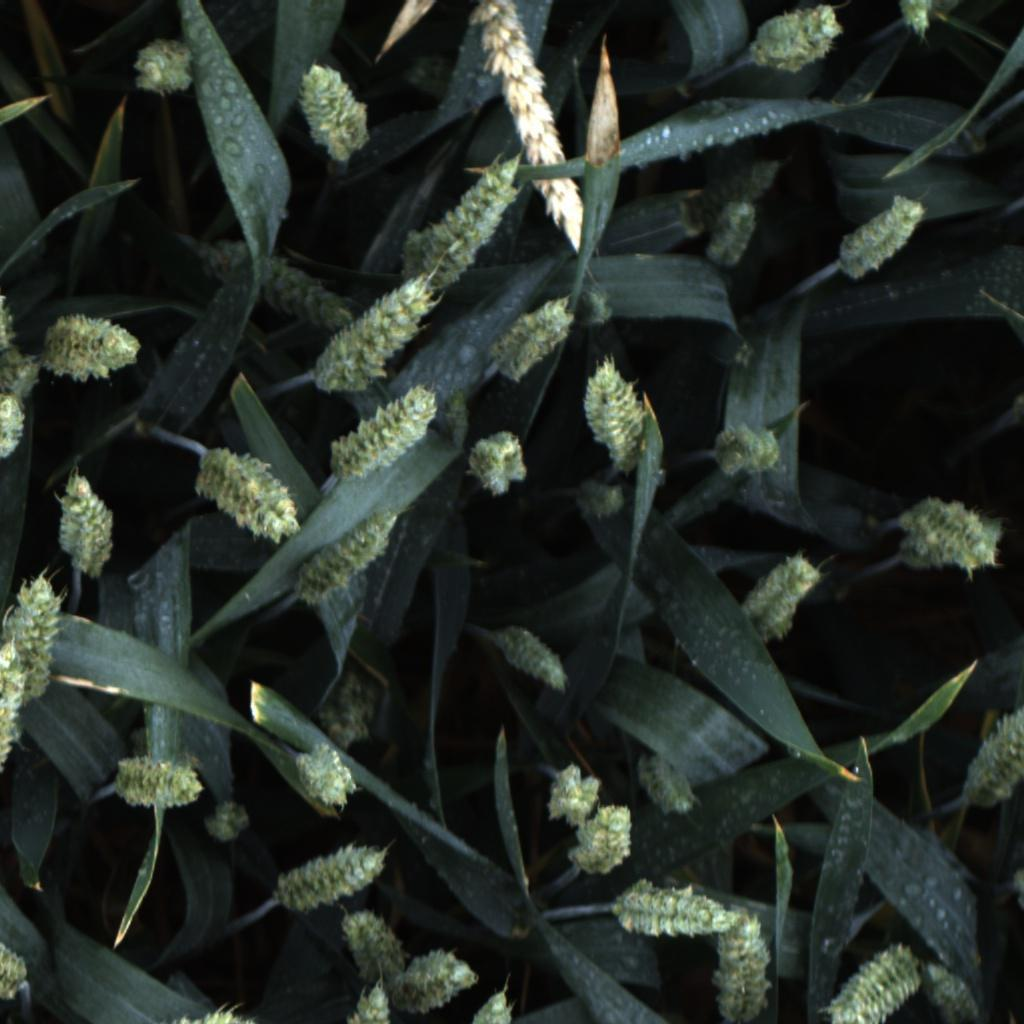0-0: (449, 0, 602, 263), (382, 154, 526, 301), (190, 234, 359, 345), (303, 268, 444, 394), (324, 386, 444, 492), (192, 439, 302, 543), (294, 508, 403, 606), (892, 488, 1001, 582), (481, 289, 575, 394), (823, 933, 926, 1024), (576, 352, 654, 468), (613, 872, 740, 941), (958, 679, 1024, 810), (833, 190, 929, 280), (277, 843, 395, 916), (294, 58, 374, 162), (8, 572, 72, 699), (740, 547, 828, 638), (743, 7, 852, 79), (51, 472, 122, 581), (711, 907, 776, 1022), (41, 313, 147, 383), (384, 946, 483, 1017), (490, 619, 578, 694), (682, 150, 791, 209), (108, 751, 206, 816), (567, 800, 643, 874), (291, 737, 362, 816), (337, 905, 410, 981), (312, 677, 388, 749), (465, 425, 533, 501), (712, 418, 791, 482), (640, 748, 702, 824), (543, 756, 604, 831), (704, 199, 765, 266), (0, 642, 28, 786), (127, 40, 191, 101), (920, 961, 981, 1024), (0, 921, 41, 1006), (572, 467, 630, 524), (148, 999, 272, 1024), (198, 794, 256, 847), (434, 381, 473, 459), (340, 977, 402, 1024), (0, 390, 33, 470), (571, 284, 620, 334), (891, 0, 940, 49), (0, 348, 45, 397), (0, 286, 24, 375), (468, 985, 522, 1024), (1004, 858, 1024, 917)
